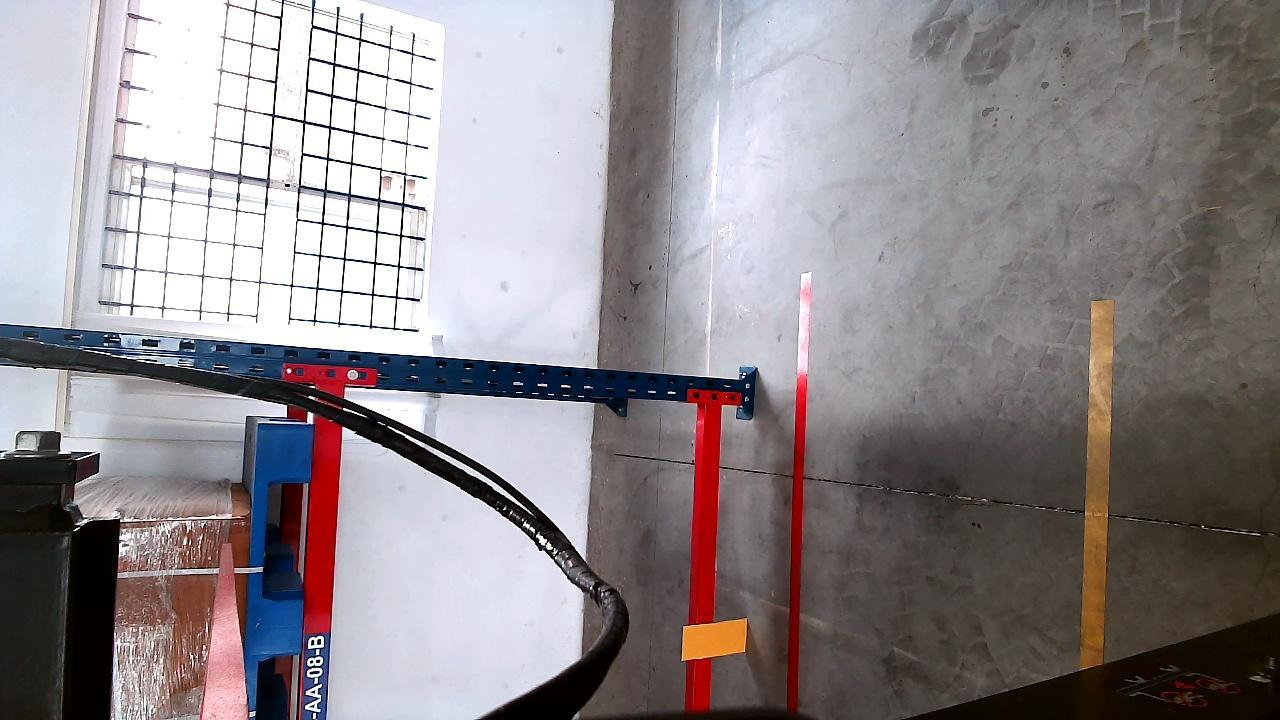red_line: (787, 274, 813, 714)
yellow_line: (1081, 294, 1115, 669)
